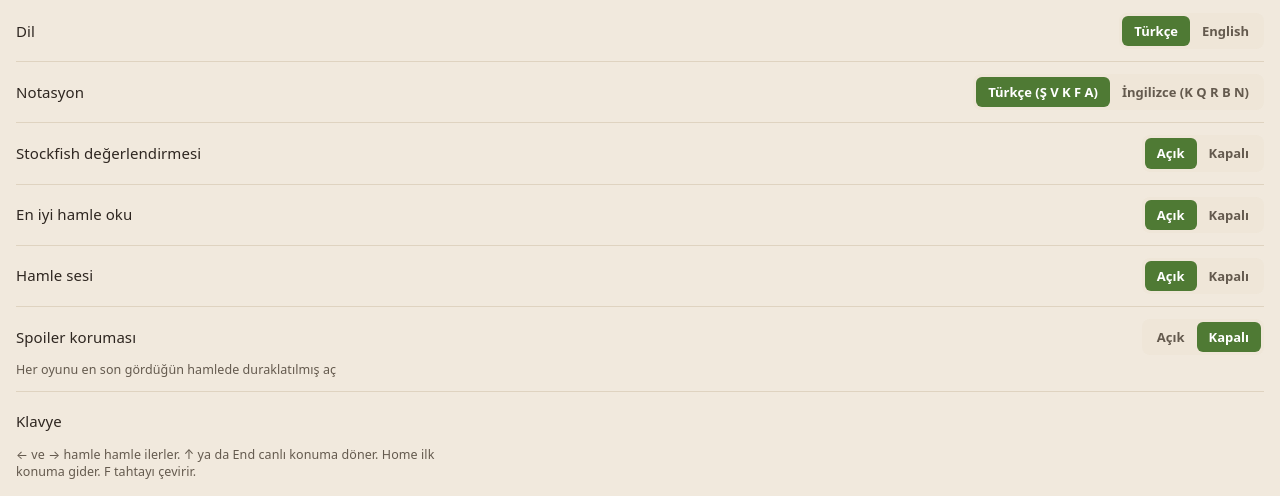
Test case: the settings tab › is one block for each setting, with what it does inside the block
expect the text "Her oyunu en son gördüğün hamlede duraklatılmış aç" is shown: met, box [16,361,336,378]
// a switch still switches
Click the button "Kapalı" in the row of "Hamle sesi" at (1229, 276), box [1196,261,1261,291]
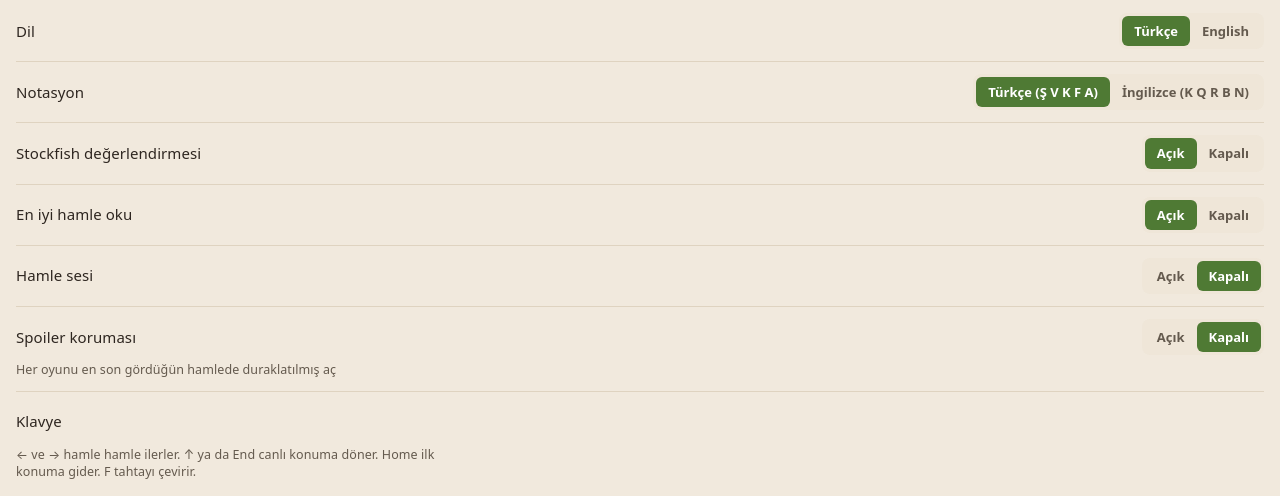
expect the button "Kapalı" in the row of "Hamle sesi" is pressed: met, box [1196,261,1261,291]
